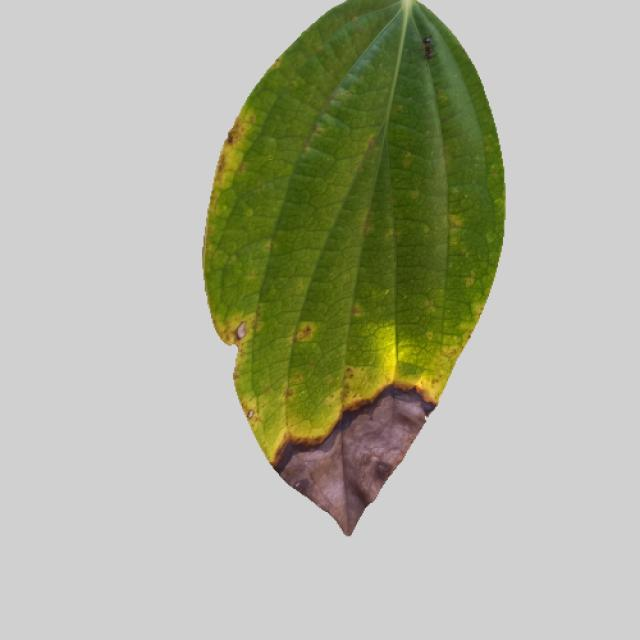leaf-blight: (169, 16, 575, 552)
